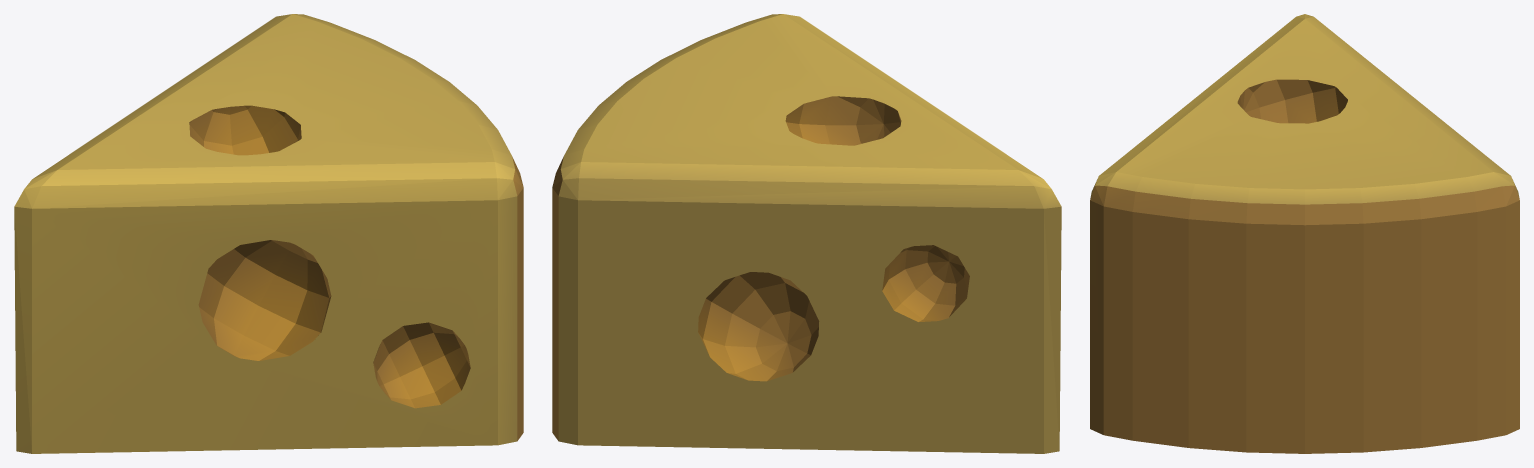
File: Rat_Cheese.glb
The picture shows the model from 3 angles, left to right: view 1: azimuth 30°, elevation 25°; view 2: azimuth 150°, elevation 25°; view 3: azimuth 270°, elevation 25°; orthographic projection. The views are drawn at different scales.
Visible parts, largest first — view 1: Rat_Cheese; view 2: Rat_Cheese; view 3: Rat_Cheese.
Part boxes in pixels (left/top/right/bottom): Rat_Cheese: left=14, top=14, right=523, bottom=453; Rat_Cheese: left=552, top=14, right=1061, bottom=453; Rat_Cheese: left=1090, top=14, right=1519, bottom=453.
Size of the model in its own units: 3.42 by 2 by 3.08.
